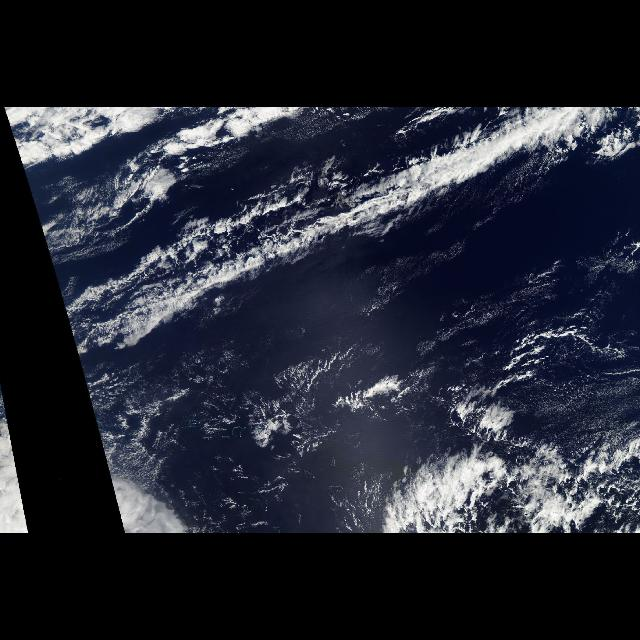Flower: (351, 437, 639, 533)
Sugar: (210, 165, 628, 401)
